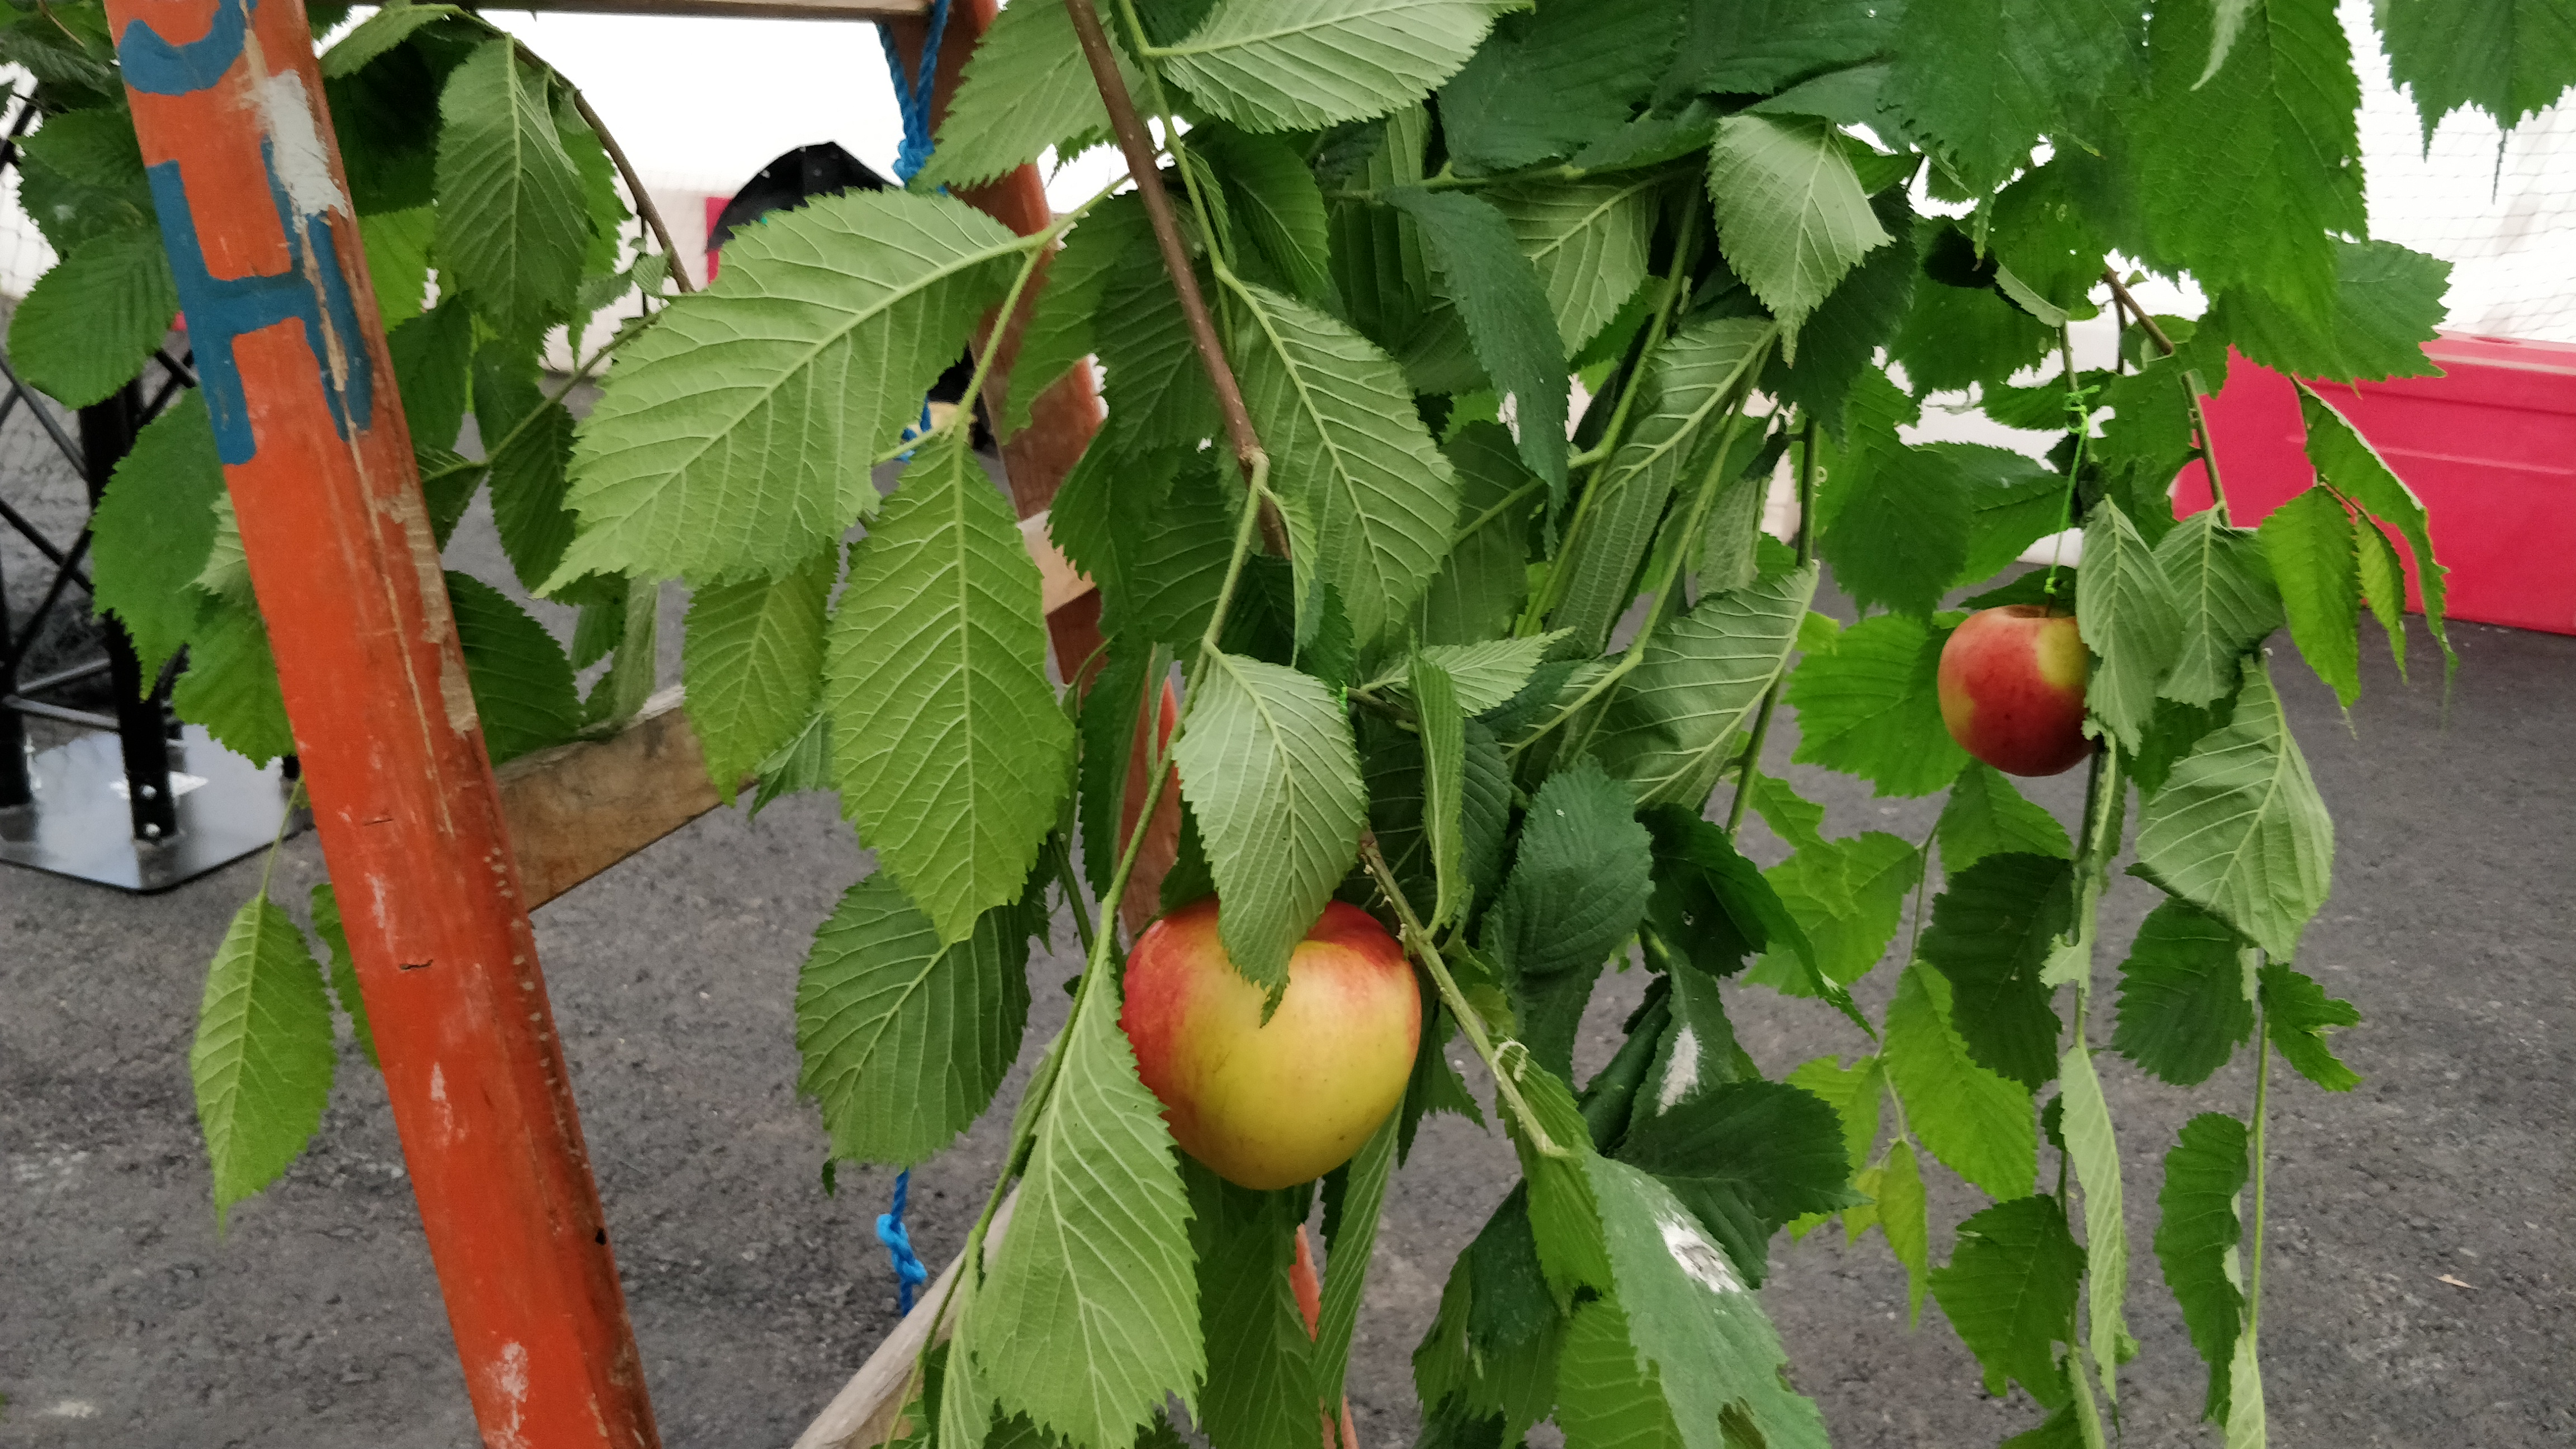apple: (1125, 904, 1422, 1191), (1937, 602, 2104, 775)
